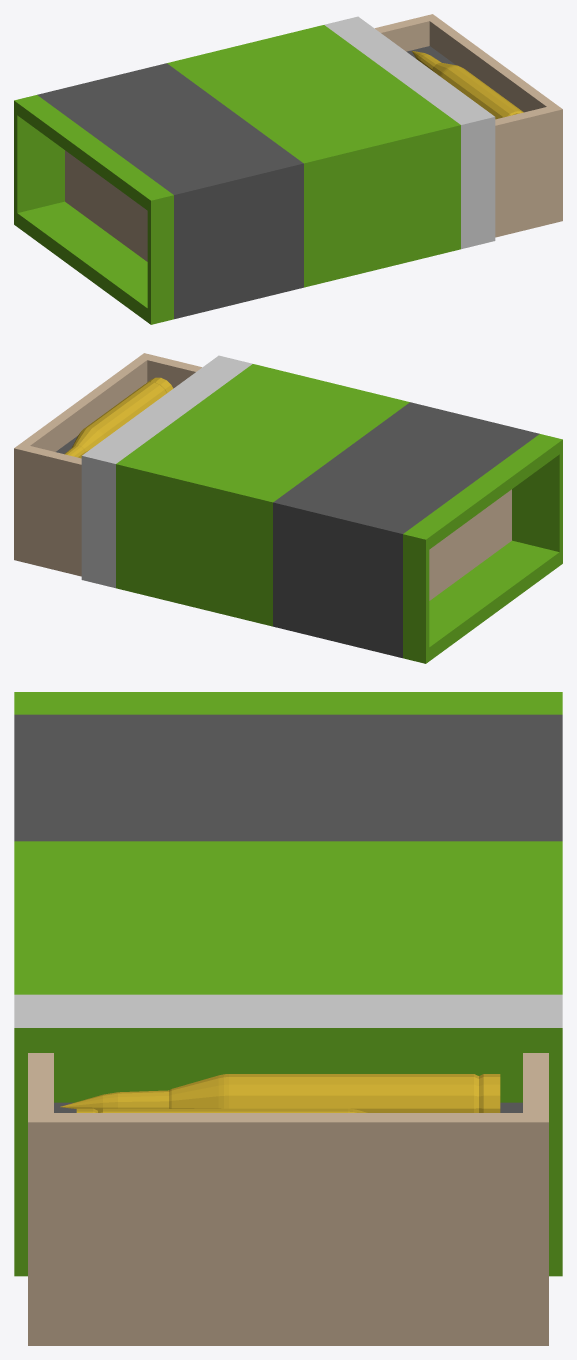
Rendered from 5.56 ammo.fbx.
The picture shows the model from 3 angles, top to bottom: view 1: azimuth 30°, elevation 25°; view 2: azimuth 150°, elevation 25°; view 3: azimuth 270°, elevation 25°; orthographic projection. The views are drawn at different scales.
Visible parts, largest first — view 1: Ammo 5.56; view 2: Ammo 5.56; view 3: Ammo 5.56.
Part boxes in pixels (left/top/right/bottom): Ammo 5.56: left=14, top=14, right=562, bottom=324; Ammo 5.56: left=14, top=353, right=562, bottom=663; Ammo 5.56: left=14, top=692, right=562, bottom=1345.
Size of the model in its own units: 67.2 by 19.2 by 38.4.
